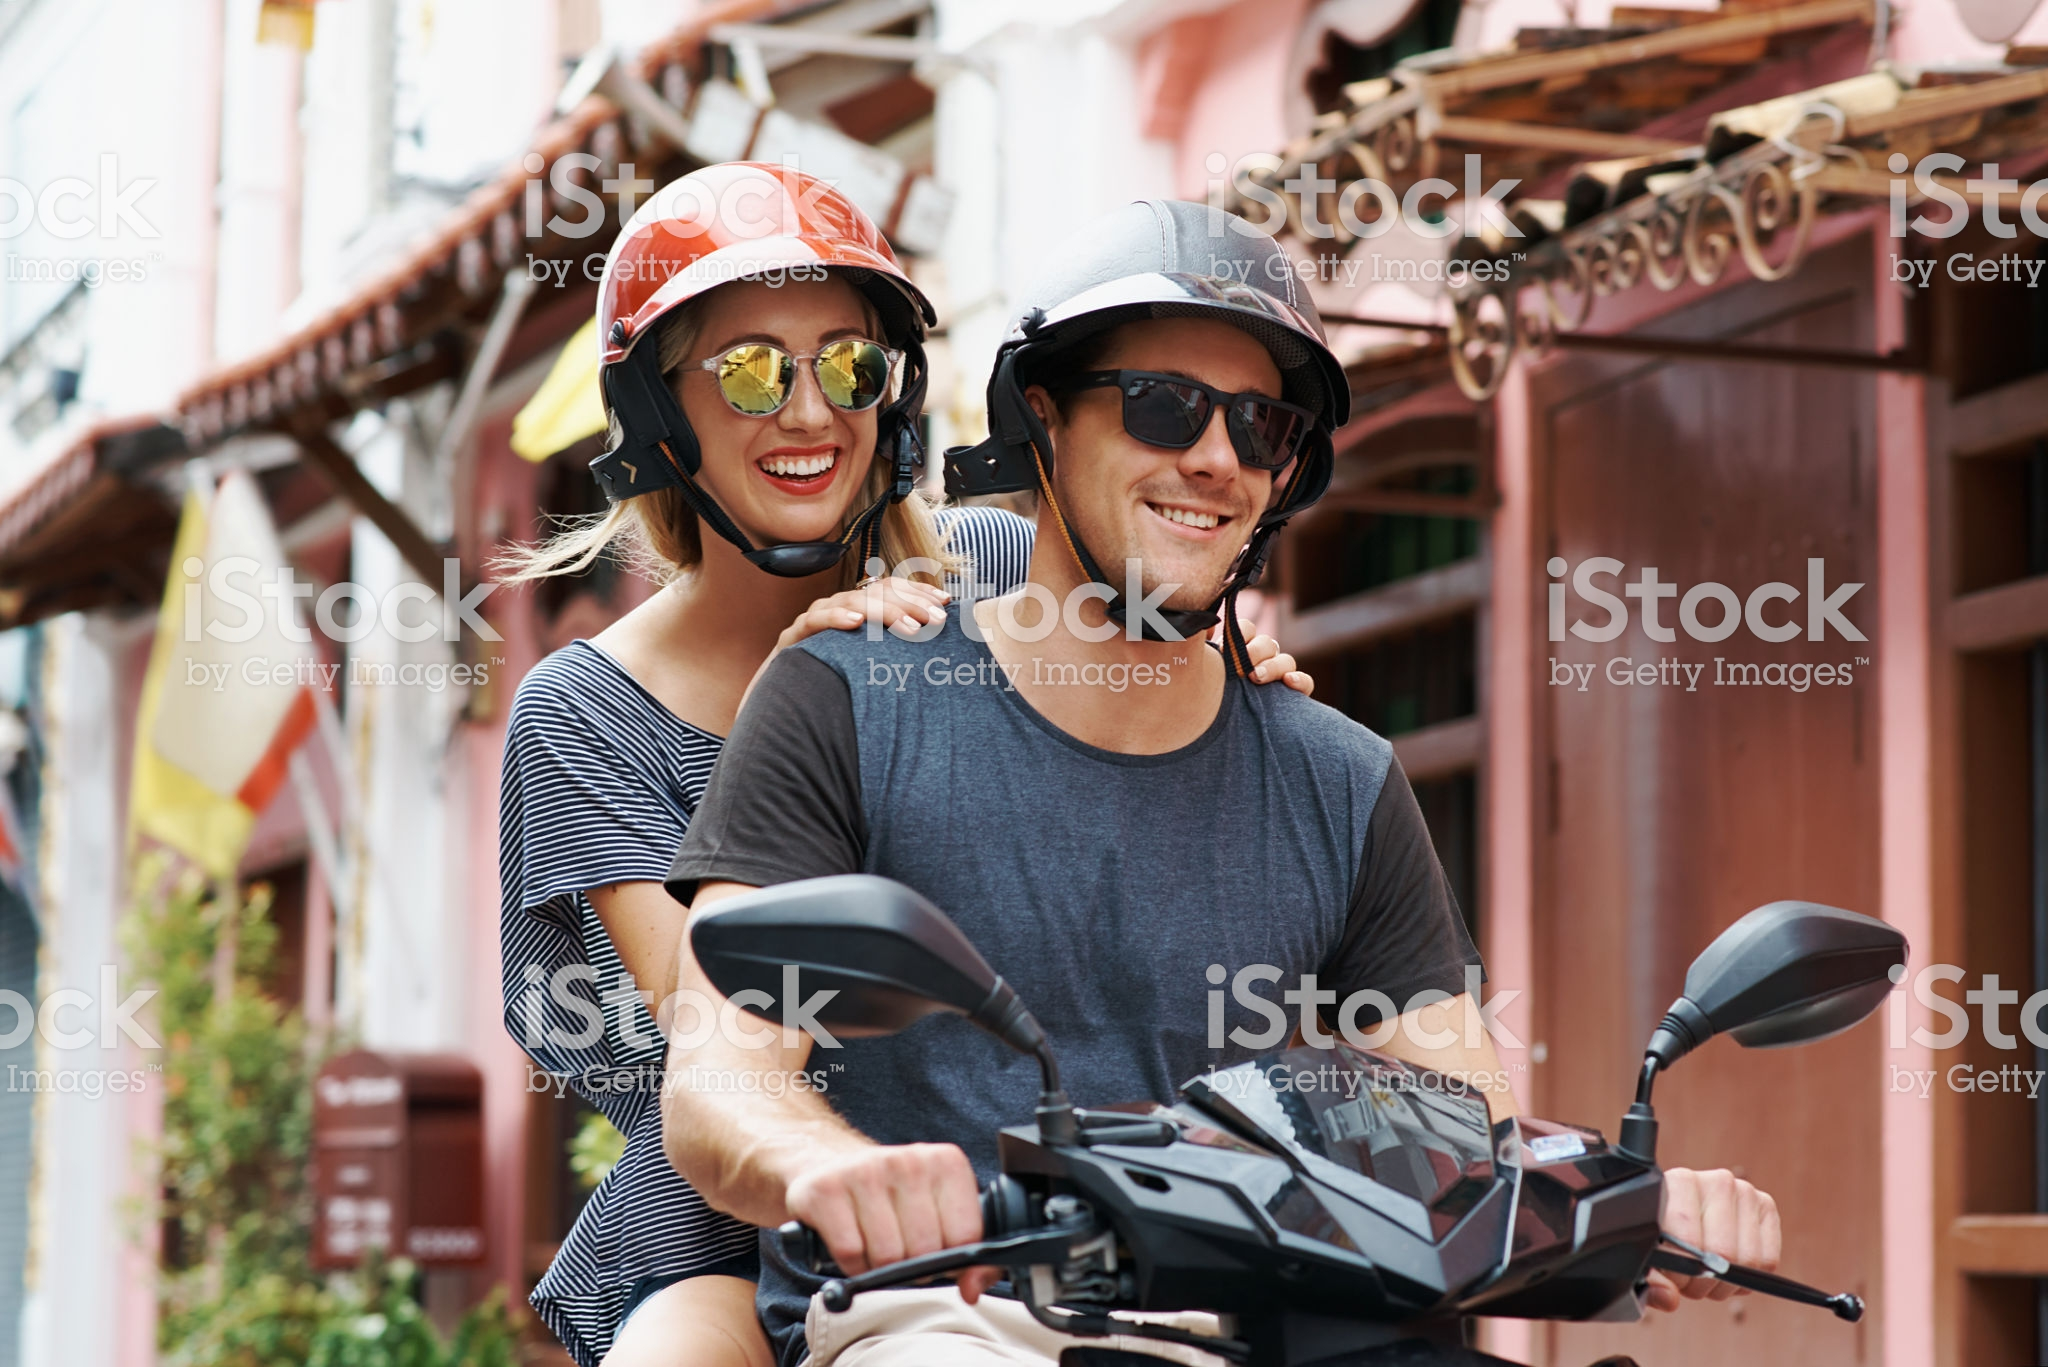helmet: (990, 174, 1366, 413), (570, 130, 936, 343)
